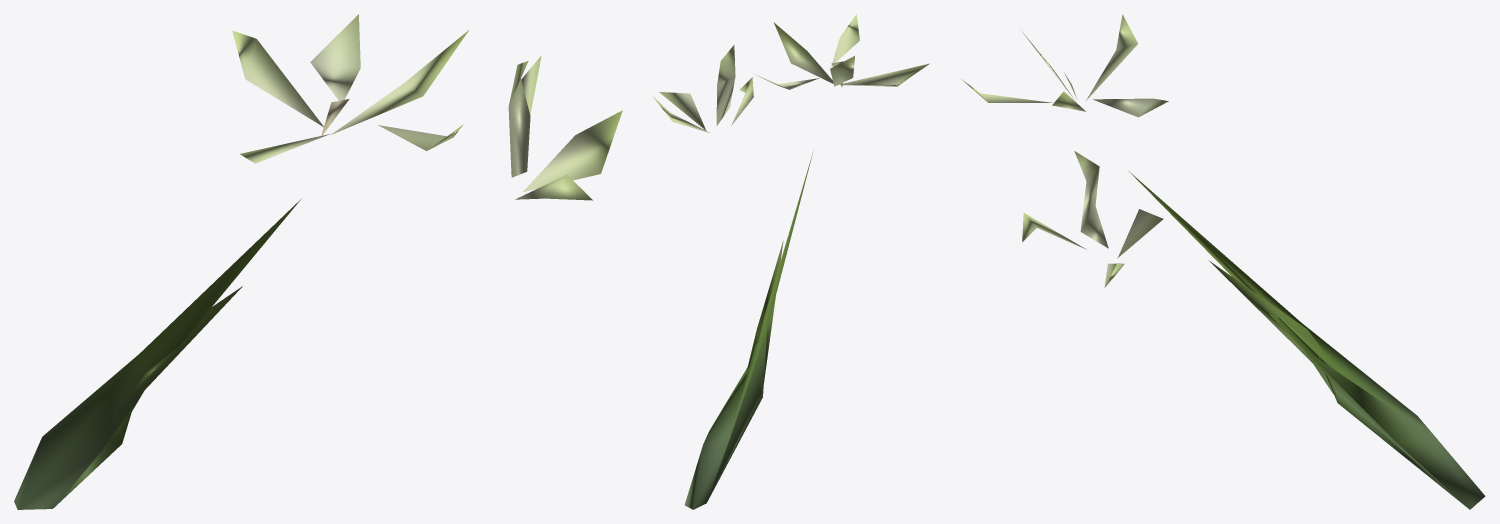
Rendered from mesh_lod_0_1f10de13-7fad-5988-85b6-1629b3de0316.glb.
3 renders of one model, left to right at view 1: azimuth 30°, elevation 25°; view 2: azimuth 150°, elevation 25°; view 3: azimuth 270°, elevation 25°, orthographic. The views are drawn at different scales.
Visible parts, largest first — view 1: LOD 0_1f10de13-7fad-5988-85b6-1629b3de0316; view 2: LOD 0_1f10de13-7fad-5988-85b6-1629b3de0316; view 3: LOD 0_1f10de13-7fad-5988-85b6-1629b3de0316.
Part boxes in pixels (x1=…): LOD 0_1f10de13-7fad-5988-85b6-1629b3de0316: x1=14, y1=14, x2=622, y2=509; LOD 0_1f10de13-7fad-5988-85b6-1629b3de0316: x1=652, y1=14, x2=929, y2=509; LOD 0_1f10de13-7fad-5988-85b6-1629b3de0316: x1=961, y1=14, x2=1485, y2=509.
Bounding box in the file's own units: 7.38 × 10.54 × 10.65.
